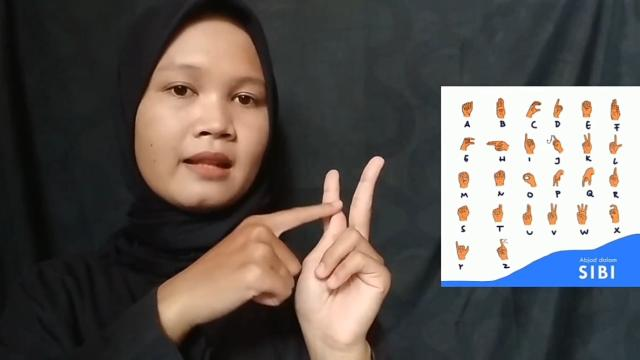K: (291, 154, 404, 360)
